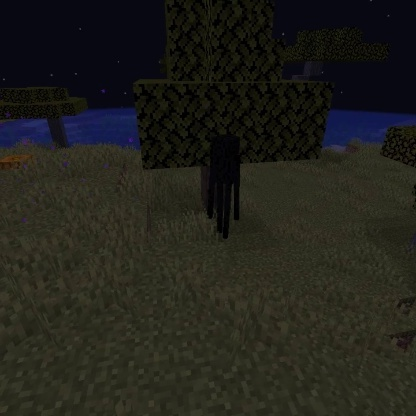enderman: (205, 133, 243, 242)
